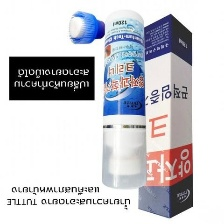aerosol_cans: (99, 6, 149, 191)
book: (135, 11, 195, 220)
